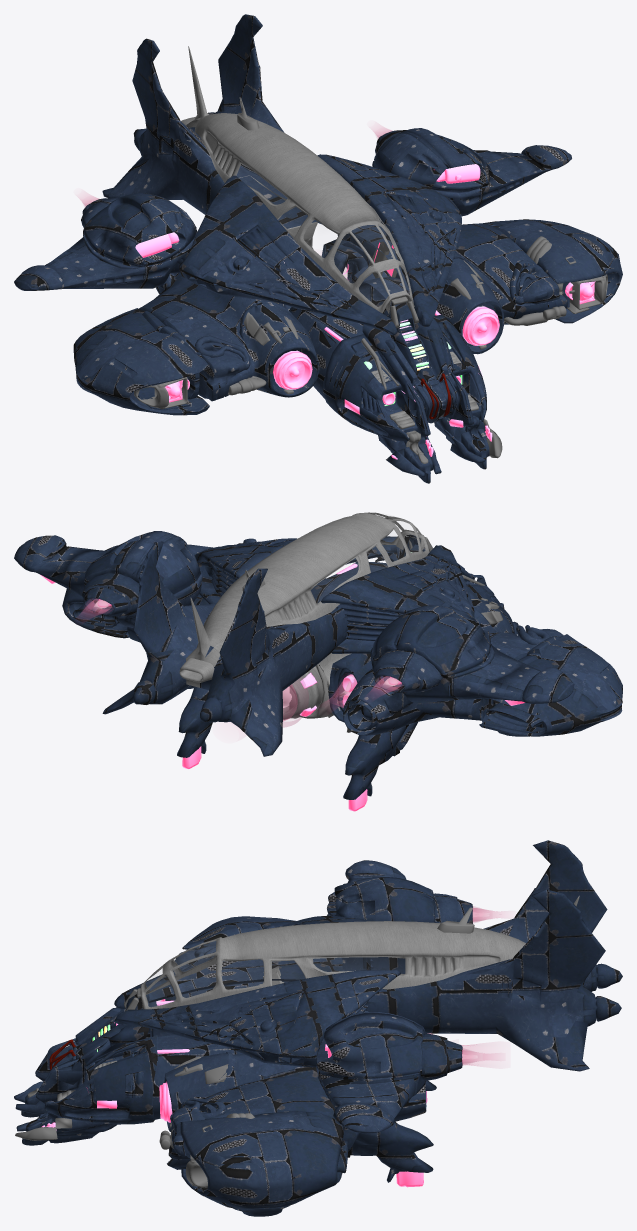
Rendered from alien-spaceship.glb.
3 views of the same model, one above another, from view 1: azimuth 30°, elevation 25°; view 2: azimuth 150°, elevation 25°; view 3: azimuth 270°, elevation 25° (orthographic). The views are drawn at different scales.
Visible parts, largest first — view 1: Alien Spaceship part_006, Alien Spaceship part_019, Alien Spaceship part_045, Alien Spaceship part_084, Alien Spaceship part_027, Alien Spaceship part_067, Alien Spaceship part_060, Alien Spaceship part_024, Alien Spaceship part_095, Alien Spaceship part_062, Alien Spaceship part_004, Alien Spaceship part_112 (+9 smaller); view 2: Alien Spaceship part_027, Alien Spaceship part_095, Alien Spaceship part_045, Alien Spaceship part_062, Alien Spaceship part_060, Alien Spaceship part_019, Alien Spaceship part_112, Alien Spaceship part_084, Alien Spaceship part_067, Alien Spaceship part_033, Alien Spaceship part_063, Alien Spaceship part_004 (+7 smaller); view 3: Alien Spaceship part_112, Alien Spaceship part_045, Alien Spaceship part_004, Alien Spaceship part_067, Alien Spaceship part_006, Alien Spaceship part_062, Alien Spaceship part_024, Alien Spaceship part_095, Alien Spaceship part_027, Alien Spaceship part_019, Alien Spaceship part_086, Alien Spaceship part_016 (+4 smaller).
Part boxes in pixels (left/top/right/bottom): Alien Spaceship part_006: left=323, top=301, right=489, bottom=483; Alien Spaceship part_019: left=179, top=175, right=397, bottom=335; Alien Spaceship part_045: left=186, top=46, right=414, bottom=314; Alien Spaceship part_084: left=138, top=272, right=319, bottom=401; Alien Spaceship part_027: left=14, top=193, right=197, bottom=290; Alien Spaceship part_067: left=317, top=154, right=461, bottom=326; Alien Spaceship part_060: left=73, top=308, right=209, bottom=415; Alien Spaceship part_024: left=337, top=223, right=568, bottom=354; Alien Spaceship part_095: left=102, top=38, right=224, bottom=214; Alien Spaceship part_062: left=372, top=128, right=571, bottom=216; Alien Spaceship part_004: left=483, top=219, right=622, bottom=323; Alien Spaceship part_112: left=208, top=14, right=321, bottom=228; Alien Spaceship part_027: left=370, top=605, right=574, bottom=703; Alien Spaceship part_095: left=200, top=568, right=348, bottom=756; Alien Spaceship part_045: left=186, top=512, right=429, bottom=687; Alien Spaceship part_062: left=14, top=531, right=202, bottom=627; Alien Spaceship part_060: left=479, top=634, right=622, bottom=736; Alien Spaceship part_019: left=321, top=545, right=474, bottom=653; Alien Spaceship part_112: left=102, top=541, right=289, bottom=714; Alien Spaceship part_084: left=343, top=600, right=563, bottom=735; Alien Spaceship part_067: left=194, top=536, right=397, bottom=604; Alien Spaceship part_033: left=343, top=722, right=417, bottom=799; Alien Spaceship part_063: left=283, top=624, right=351, bottom=719; Alien Spaceship part_004: left=62, top=544, right=212, bottom=638; Alien Spaceship part_112: left=365, top=889, right=621, bottom=1071; Alien Spaceship part_045: left=140, top=895, right=579, bottom=1009; Alien Spaceship part_004: left=179, top=1111, right=347, bottom=1216; Alien Spaceship part_067: left=114, top=970, right=400, bottom=1067; Alien Spaceship part_006: left=14, top=994, right=157, bottom=1145; Alien Spaceship part_062: left=316, top=1012, right=462, bottom=1133; Alien Spaceship part_024: left=164, top=1052, right=426, bottom=1158; Alien Spaceship part_095: left=342, top=840, right=622, bottom=991; Alien Spaceship part_027: left=327, top=860, right=472, bottom=923; Alien Spaceship part_019: left=114, top=915, right=374, bottom=1008; Alien Spaceship part_086: left=347, top=1121, right=433, bottom=1182; Alien Spaceship part_016: left=152, top=1035, right=242, bottom=1119.
Bounding box in the file's own units: 2.83 × 1.36 × 2.68.
Materials: 11 (5 with a texture image).
